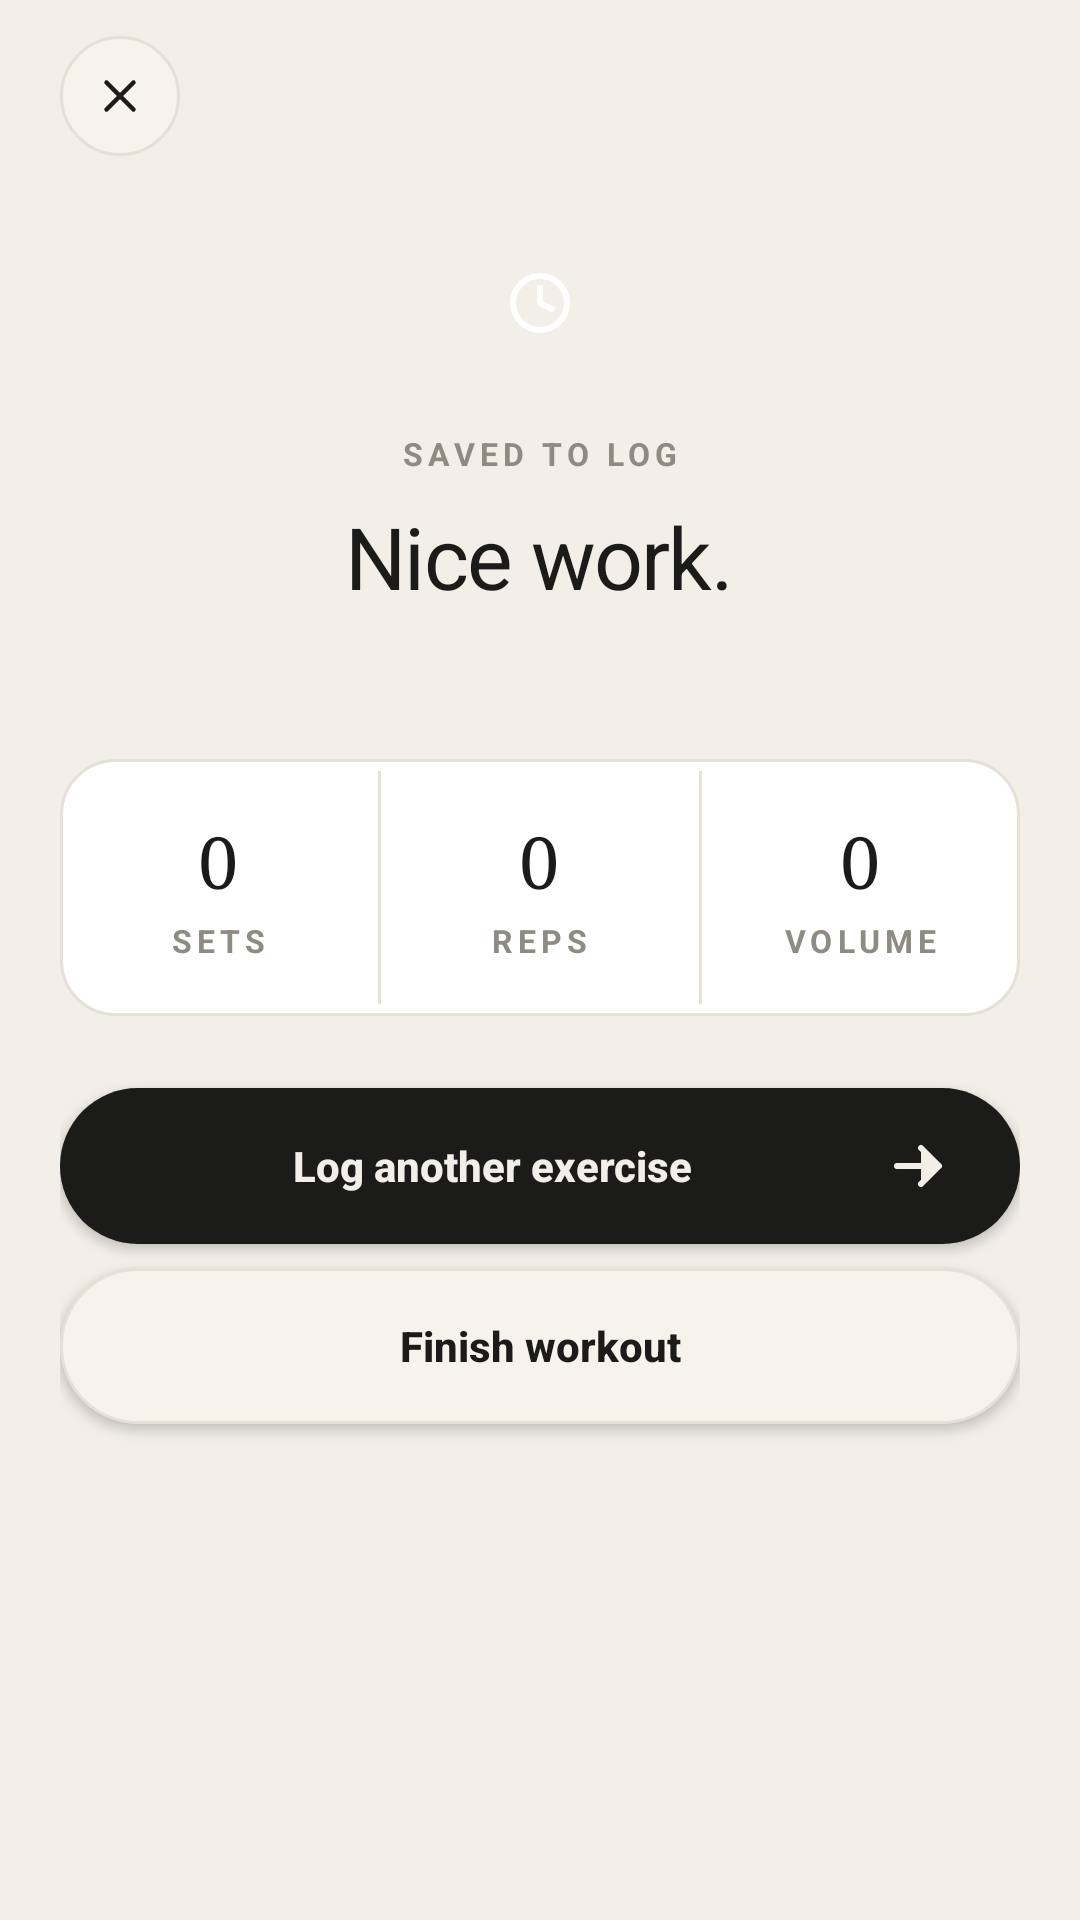

Icon click points for this 1080×1920 phone screenshot, format (x=x, y=y):
Close: (x=120, y=96)
